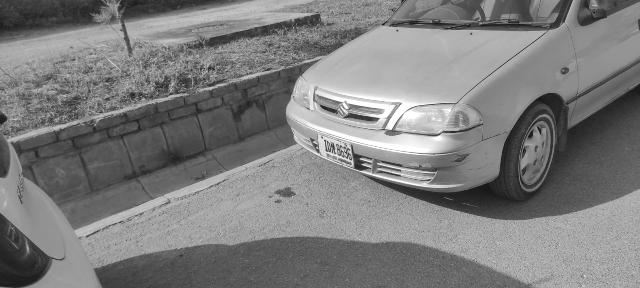Number: (321, 138, 353, 162)
